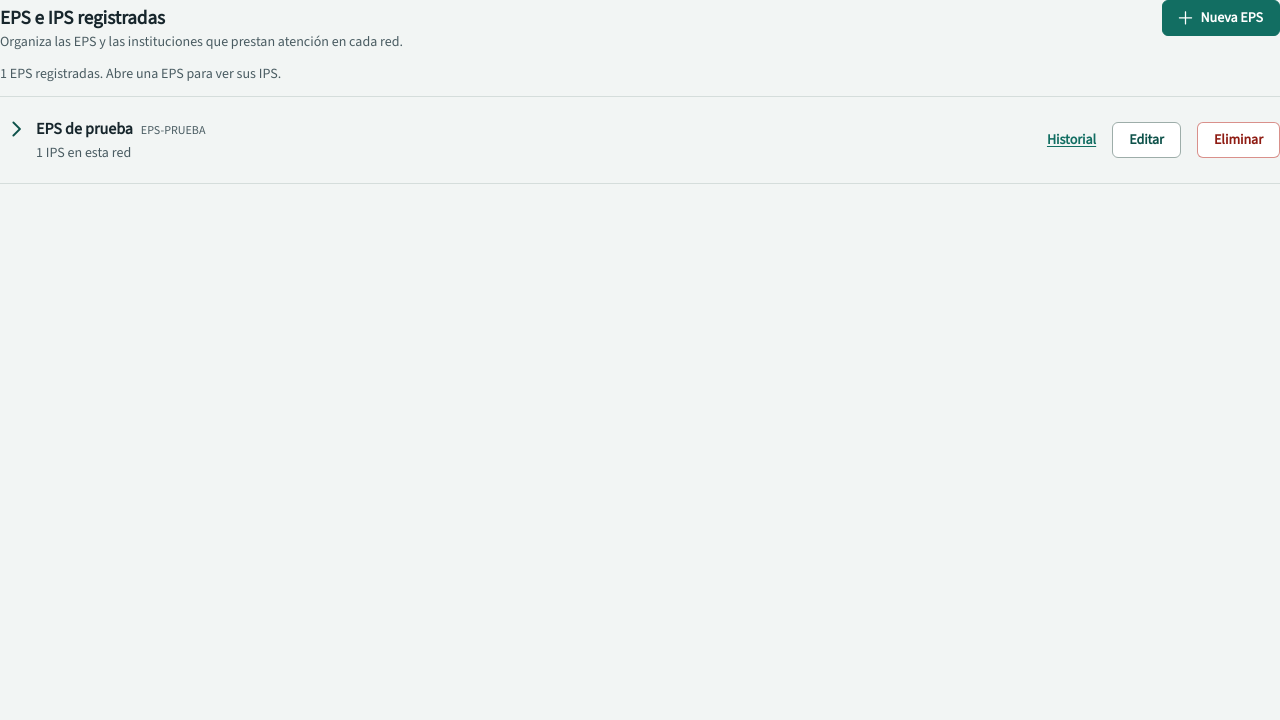
opens IPS creation inside its EPS with an accurate nested count
Expected: the text "1 IPS en esta red" is shown, [36,143,131,162]
Click the button "EPS-PRUEBA": (84, 128) [0,109,1023,171]
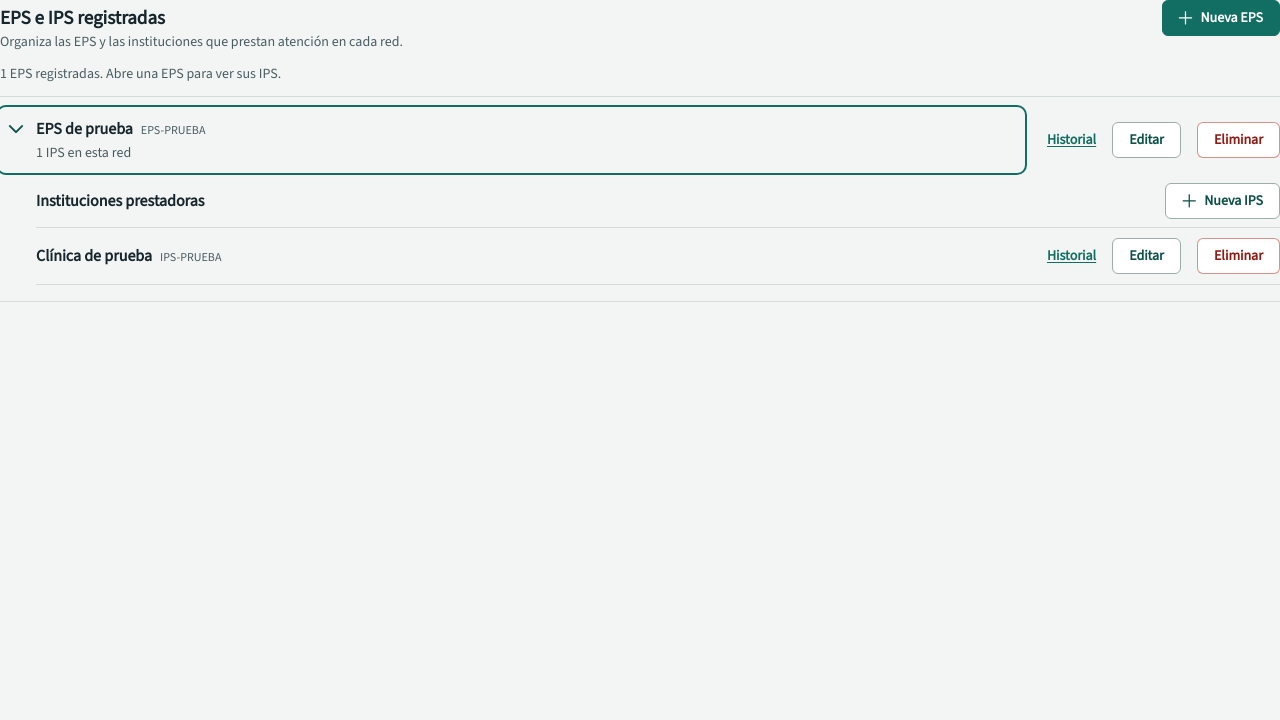
Now the button "EPS-PRUEBA" is expanded, box [0,109,1023,171]
Now the heading "Clínica de prueba" is shown, box [36,245,152,266]
Click the button with aria-label "Nueva IPS en EPS de prueba": (1223, 201) [1165,183,1279,219]
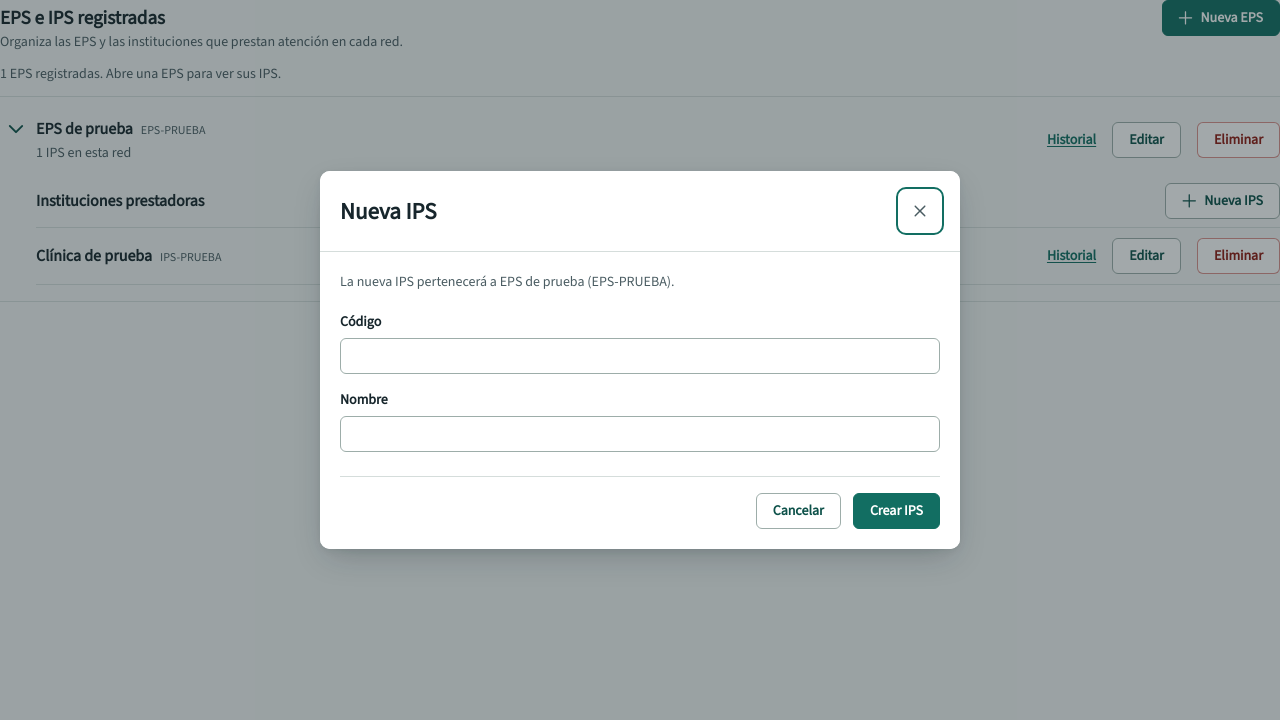
Now the text "La nueva IPS pertenecerá a EPS de prueba (EPS-PRUEBA)." is shown, box [340,272,675,291]
